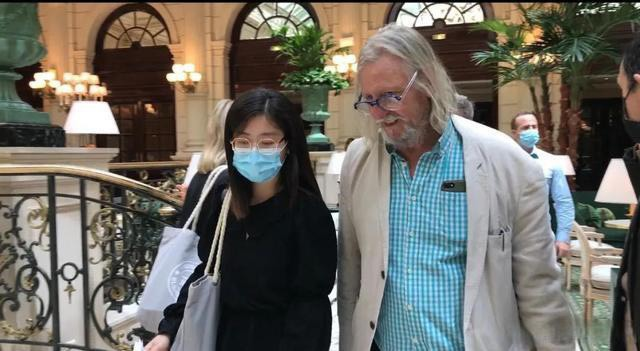with_mask: (230, 134, 285, 180), (518, 123, 538, 145)
without_mask: (364, 86, 420, 130)
